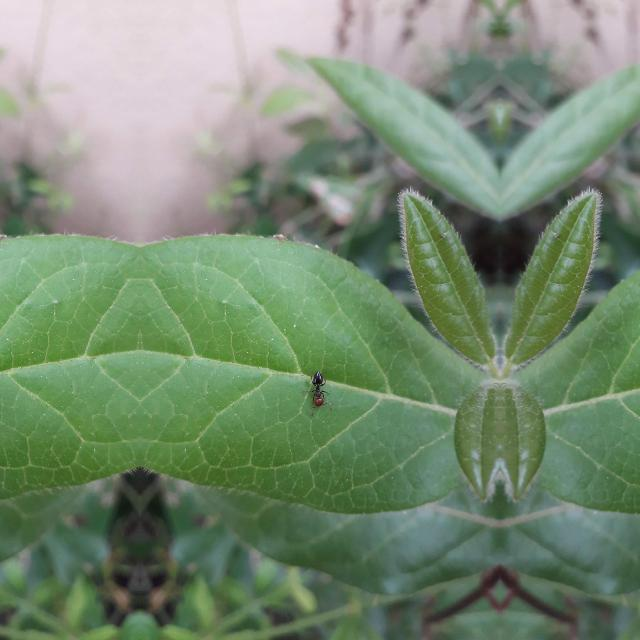Crematogaster: (303, 367, 333, 417)
